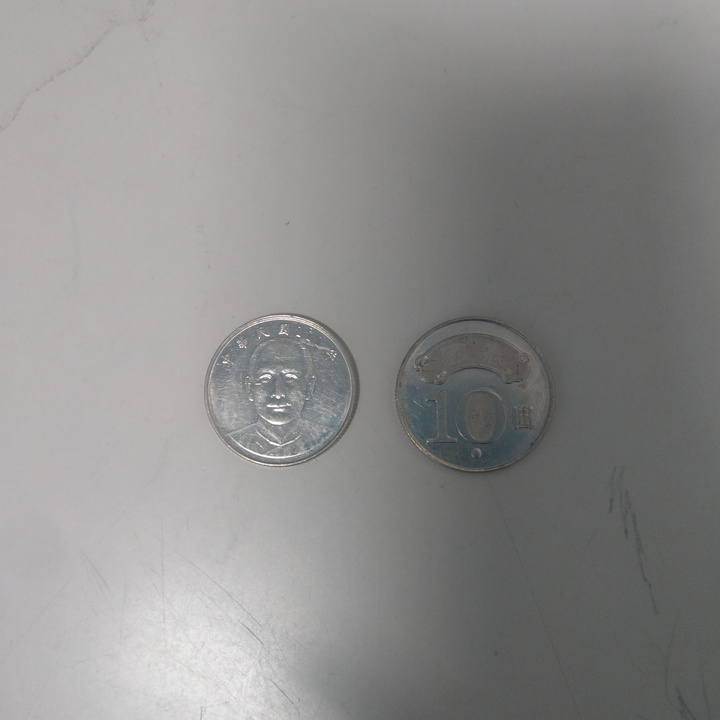10 dollar: (393, 317, 553, 476), (203, 314, 359, 470)
